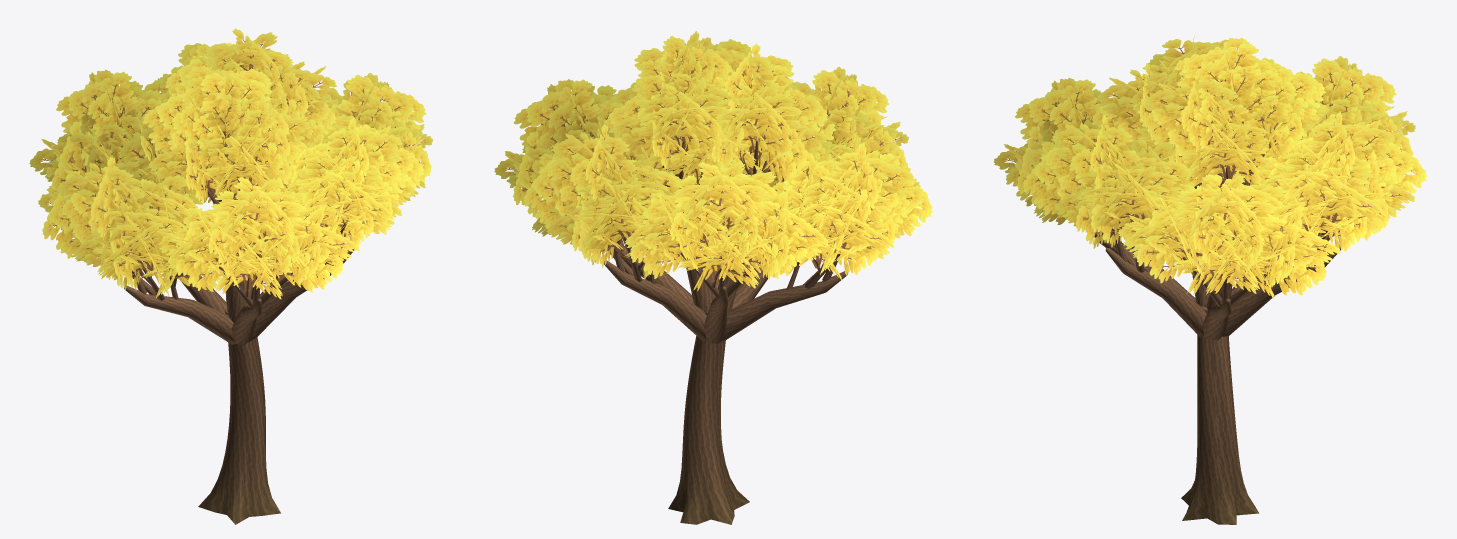
File: gold-tree.glb
3 renders of one model, left to right at view 1: azimuth 30°, elevation 25°; view 2: azimuth 150°, elevation 25°; view 3: azimuth 270°, elevation 25°, orthographic.
Visible parts, largest first — view 1: canopy-foliage, GoldBark; view 2: canopy-foliage, GoldBark; view 3: canopy-foliage, GoldBark.
Boxes of the visible parts, <box> form: canopy-foliage: <box>29,28,432,299</box>; GoldBark: <box>109,154,354,524</box>; canopy-foliage: <box>494,31,932,291</box>; GoldBark: <box>604,140,848,524</box>; canopy-foliage: <box>993,36,1426,299</box>; GoldBark: <box>1094,139,1340,524</box>.
Size of the model in its own units: 5.3 by 6.1 by 5.3.
Materials: 2 (2 with a texture image).
